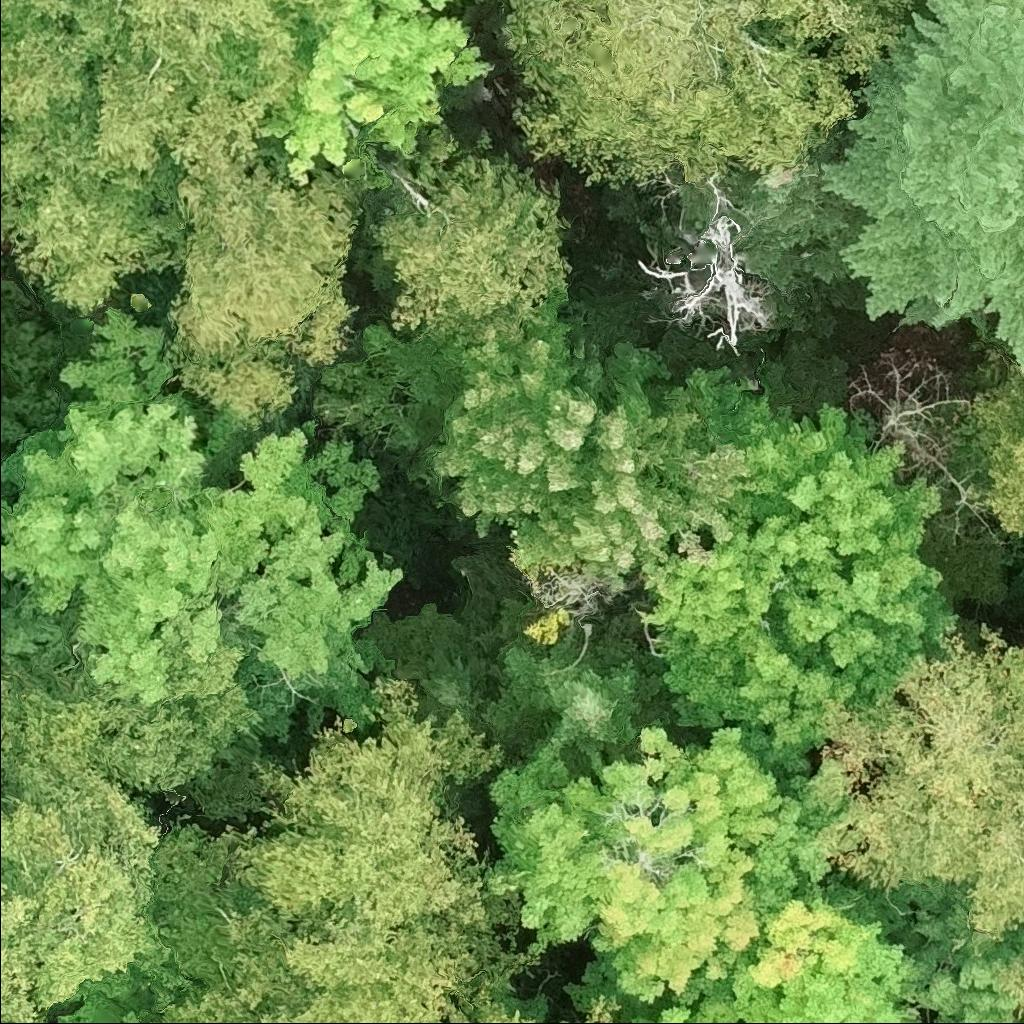crown: (0, 303, 411, 707), (635, 361, 960, 785), (305, 299, 755, 599), (230, 672, 537, 1023), (481, 722, 783, 1006), (815, 0, 1023, 374), (495, 0, 859, 191), (816, 621, 1023, 938), (0, 654, 175, 1009), (153, 150, 366, 440), (558, 884, 938, 1023), (366, 124, 574, 348), (0, 77, 185, 320), (256, 0, 500, 184), (477, 594, 671, 781), (85, 645, 270, 820), (152, 820, 319, 1011), (86, 30, 297, 179), (726, 126, 864, 287), (884, 883, 1023, 1023), (360, 599, 502, 729), (120, 0, 346, 78), (0, 0, 126, 136), (0, 277, 92, 462), (754, 775, 853, 918), (768, 0, 921, 86), (960, 373, 1023, 538), (56, 959, 204, 1023), (0, 881, 46, 1023), (155, 984, 299, 1023), (284, 987, 411, 1023), (579, 992, 625, 1023), (477, 1003, 546, 1023), (0, 575, 10, 606), (0, 483, 17, 497), (438, 1011, 451, 1023), (553, 1018, 570, 1023), (0, 628, 3, 656)
